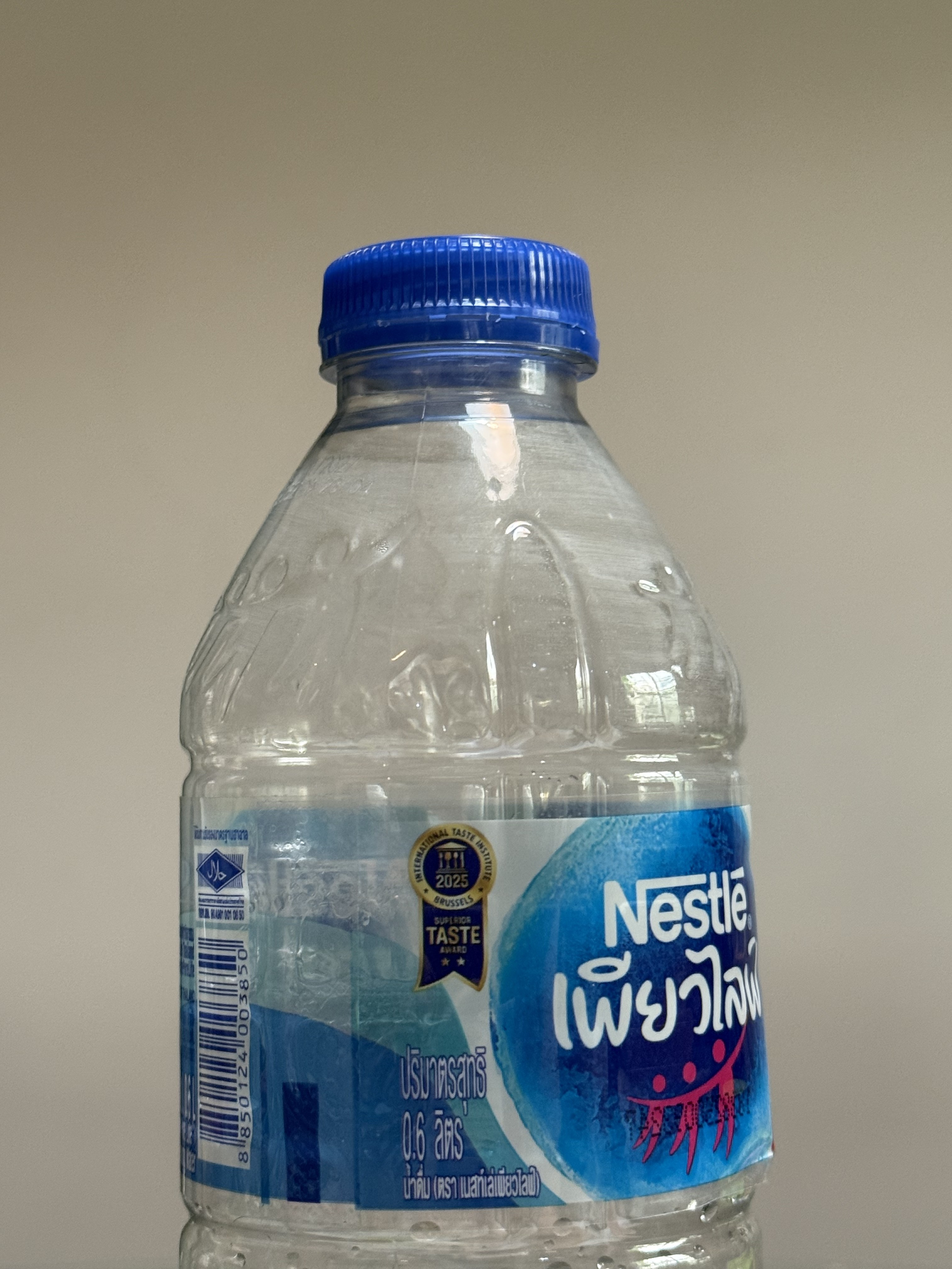closed_cap: (314, 230, 602, 377)
